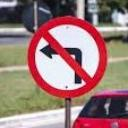NoVirarEsquerda: (25, 13, 110, 101)
